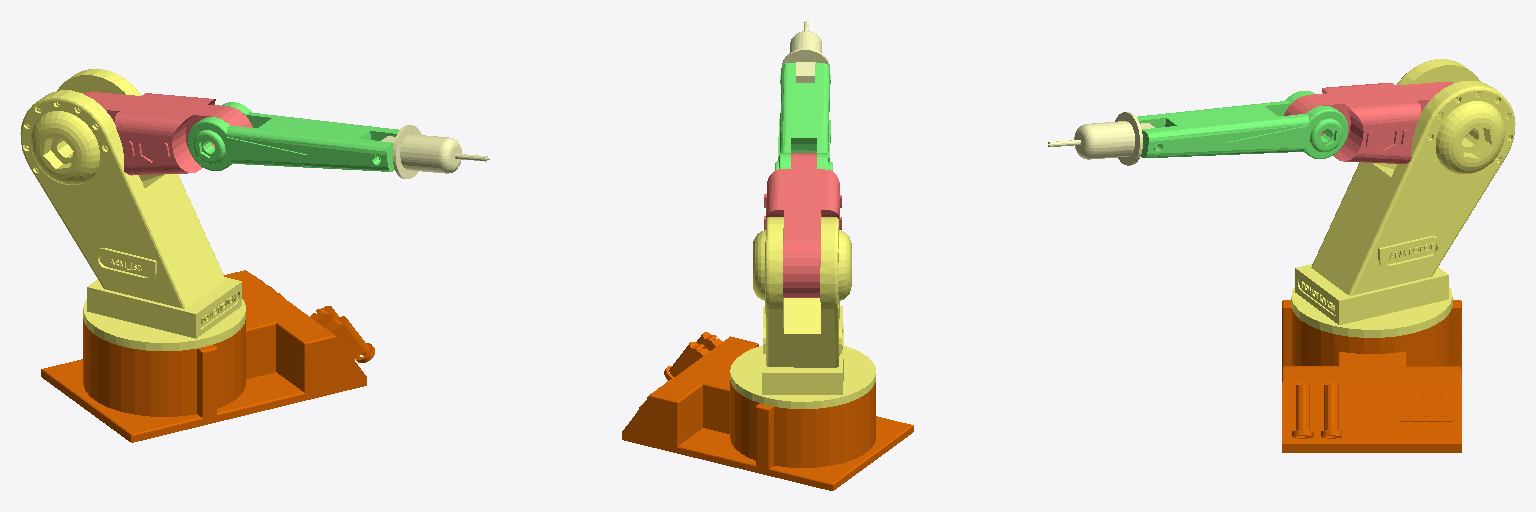
URDF robot description (robot_arm):
<?xml version="1.0" encoding="utf-8"?>
<!-- This URDF was automatically created by SolidWorks to URDF Exporter! Originally created by [author] ([email redacted]) 
     Commit Version: 1.6.0-1-g15f4949  Build Version: 1.6.7594.29634
     For more information, please see http://wiki.ros.org/sw_urdf_exporter -->
<robot
  name="robot_arm">
  <link
    name="base_link">
    <inertial>
      <origin
        xyz="0.022652 -0.0003057 0.019892"
        rpy="0 0 0" />
      <mass
        value="0.45128" />
      <inertia
        ixx="0.00035865"
        ixy="9.1464E-06"
        ixz="4.2732E-05"
        iyy="0.00078559"
        iyz="7.4208E-07"
        izz="0.00099342" />
    </inertial>
    <visual>
      <origin
        xyz="0 0 0"
        rpy="0 0 0" />
      <geometry>
        <mesh
          filename="package://robot_arm/meshes/base_link.STL" />
      </geometry>
      <material
        name="">
        <color
          rgba="0.9098 0.44314 0.031373 1" />
      </material>
    </visual>
    <collision>
      <origin
        xyz="0 0 0"
        rpy="0 0 0" />
      <geometry>
        <mesh
          filename="package://robot_arm/meshes/base_link.STL" />
      </geometry>
    </collision>
  </link>
  <link
    name="Link_1">
    <inertial>
      <origin
        xyz="-0.019819 -0.050582 5.648E-07"
        rpy="0 0 0" />
      <mass
        value="0.2999" />
      <inertia
        ixx="0.00046491"
        ixy="-0.00019294"
        ixz="-6.3645E-10"
        iyy="0.00028239"
        iyz="-1.4246E-09"
        izz="0.00058439" />
    </inertial>
    <visual>
      <origin
        xyz="0 0 0"
        rpy="0 0 0" />
      <geometry>
        <mesh
          filename="package://robot_arm/meshes/Link_1.STL" />
      </geometry>
      <material
        name="">
        <color
          rgba="1 1 0.50196 1" />
      </material>
    </visual>
    <collision>
      <origin
        xyz="0 0 0"
        rpy="0 0 0" />
      <geometry>
        <mesh
          filename="package://robot_arm/meshes/Link_1.STL" />
      </geometry>
    </collision>
  </link>
  <joint
    name="Joint_1"
    type="revolute">
    <origin
      xyz="0 0 0.045"
      rpy="-1.5708 0 -1.0577" />
    <parent
      link="base_link" />
    <child
      link="Link_1" />
    <axis
      xyz="0 -1 0" />
    <limit
      lower="-3.14"
      upper="3.14"
      effort="200"
      velocity="3" />
  </joint>
  <link
    name="Link_2">
    <inertial>
      <origin
        xyz="0.040634 0.00089632 -4.2115E-09"
        rpy="0 0 0" />
      <mass
        value="0.11006" />
      <inertia
        ixx="2.1883E-05"
        ixy="-1.8735E-06"
        ixz="6.9081E-12"
        iyy="0.00010675"
        iyz="1.5891E-11"
        izz="0.00010767" />
    </inertial>
    <visual>
      <origin
        xyz="0 0 0"
        rpy="0 0 0" />
      <geometry>
        <mesh
          filename="package://robot_arm/meshes/Link_2.STL" />
      </geometry>
      <material
        name="">
        <color
          rgba="1 0.50196 0.50196 1" />
      </material>
    </visual>
    <collision>
      <origin
        xyz="0 0 0"
        rpy="0 0 0" />
      <geometry>
        <mesh
          filename="package://robot_arm/meshes/Link_2.STL" />
      </geometry>
    </collision>
  </link>
  <joint
    name="Joint_2"
    type="revolute">
    <origin
      xyz="-0.05 -0.1 0"
      rpy="0 0 -0.23131" />
    <parent
      link="Link_1" />
    <child
      link="Link_2" />
    <axis
      xyz="0 0 1" />
    <limit
      lower="0"
      upper="2.61"
      effort="100"
      velocity="3" />
  </joint>
  <link
    name="Link_3">
    <inertial>
      <origin
        xyz="0.049603 -6.5616E-10 2.0554E-08"
        rpy="0 0 0" />
      <mass
        value="0.055235" />
      <inertia
        ixx="7.2414E-06"
        ixy="7.0952E-13"
        ixz="-1.214E-11"
        iyy="6.7372E-05"
        iyz="6.2077E-11"
        izz="6.3743E-05" />
    </inertial>
    <visual>
      <origin
        xyz="0 0 0"
        rpy="0 0 0" />
      <geometry>
        <mesh
          filename="package://robot_arm/meshes/Link_3.STL" />
      </geometry>
      <material
        name="">
        <color
          rgba="0.50196 1 0.50196 1" />
      </material>
    </visual>
    <collision>
      <origin
        xyz="0 0 0"
        rpy="0 0 0" />
      <geometry>
        <mesh
          filename="package://robot_arm/meshes/Link_3.STL" />
      </geometry>
    </collision>
  </link>
  <joint
    name="Joint_3"
    type="revolute">
    <origin
      xyz="0.089978 0.0019852 0"
      rpy="0 0 0.074747" />
    <parent
      link="Link_2" />
    <child
      link="Link_3" />
    <axis
      xyz="0 0 -1" />
    <limit
      lower="-0.174"
      upper="1.74"
      effort="100"
      velocity="3" />
  </joint>
  <link
    name="Link4">
    <inertial>
      <origin
        xyz="0.021961 -8.3267E-17 3.1289E-05"
        rpy="0 0 0" />
      <mass
        value="0.012616" />
      <inertia
        ixx="6.5519E-07"
        ixy="1.1316E-21"
        ixz="4.6978E-21"
        iyy="2.2097E-06"
        iyz="8.1144E-23"
        izz="2.212E-06" />
    </inertial>
    <visual>
      <origin
        xyz="0 0 0"
        rpy="0 0 0" />
      <geometry>
        <mesh
          filename="package://robot_arm/meshes/Link4.STL" />
      </geometry>
      <material
        name="">
        <color
          rgba="1 1 0.75294 1" />
      </material>
    </visual>
    <collision>
      <origin
        xyz="0 0 0"
        rpy="0 0 0" />
      <geometry>
        <mesh
          filename="package://robot_arm/meshes/Link4.STL" />
      </geometry>
    </collision>
  </link>
  <joint
    name="Joint_4"
    type="revolute">
    <origin
      xyz="0.108 0 0"
      rpy="0 0 0.0020315" />
    <parent
      link="Link_3" />
    <child
      link="Link4" />
    <axis
      xyz="0 0 1" />
    <limit
      lower="-2.68"
      upper="1.3"
      effort="100"
      velocity="3" />
  </joint>
</robot>

--- Render facts (derived) ---
3 views of the same robot in one strip: view 1: azimuth 30°, elevation 25°; view 2: azimuth 150°, elevation 25°; view 3: azimuth 270°, elevation 25° (orthographic).
Model robot_arm with 5 links and 4 joints (4 revolute), rooted at base_link, posed every joint at zero.
Visible links, largest first — view 1: Link_1, base_link, Link_3, Link_2, Link4; view 2: base_link, Link_1, Link_2, Link_3, Link4; view 3: Link_1, base_link, Link_3, Link_2, Link4.
Boxes of the visible links, <box> form: Link_1: <box>20,69,245,350</box>; base_link: <box>41,270,374,442</box>; Link_3: <box>187,102,399,171</box>; Link_2: <box>83,92,252,175</box>; Link4: <box>381,125,489,178</box>; base_link: <box>622,332,913,490</box>; Link_1: <box>730,217,875,408</box>; Link_2: <box>764,153,841,297</box>; Link_3: <box>775,63,832,170</box>; Link4: <box>782,21,829,82</box>; Link_1: <box>1291,59,1515,337</box>; base_link: <box>1282,300,1461,452</box>; Link_3: <box>1137,91,1347,158</box>; Link_2: <box>1284,82,1466,163</box>; Link4: <box>1047,112,1154,165</box>.
Size in the robot's own frame: 0.1693 by 0.2624 by 0.1973 metres.
5 mesh visuals loaded from 5 distinct referenced files (5 binary STL).